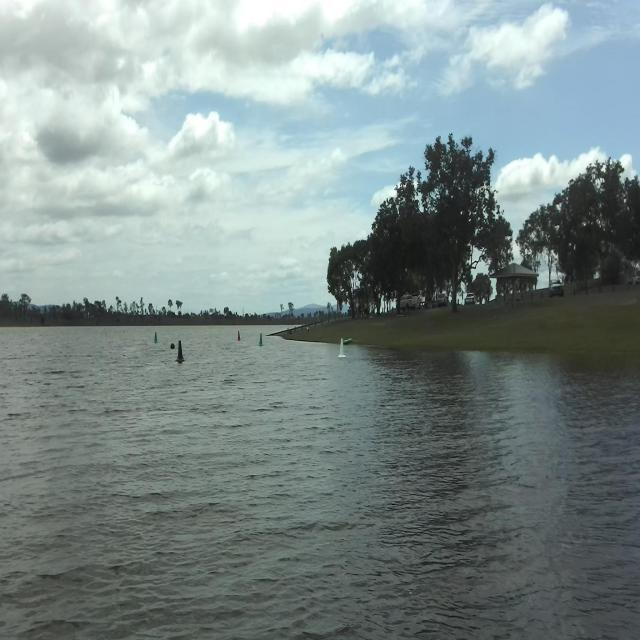Black_Buoy: (175, 335, 190, 370)
Green_Buoy: (150, 325, 162, 353), (258, 330, 267, 350)
Red_Buoy: (232, 327, 245, 348)
White_Buoy: (333, 335, 352, 365)
